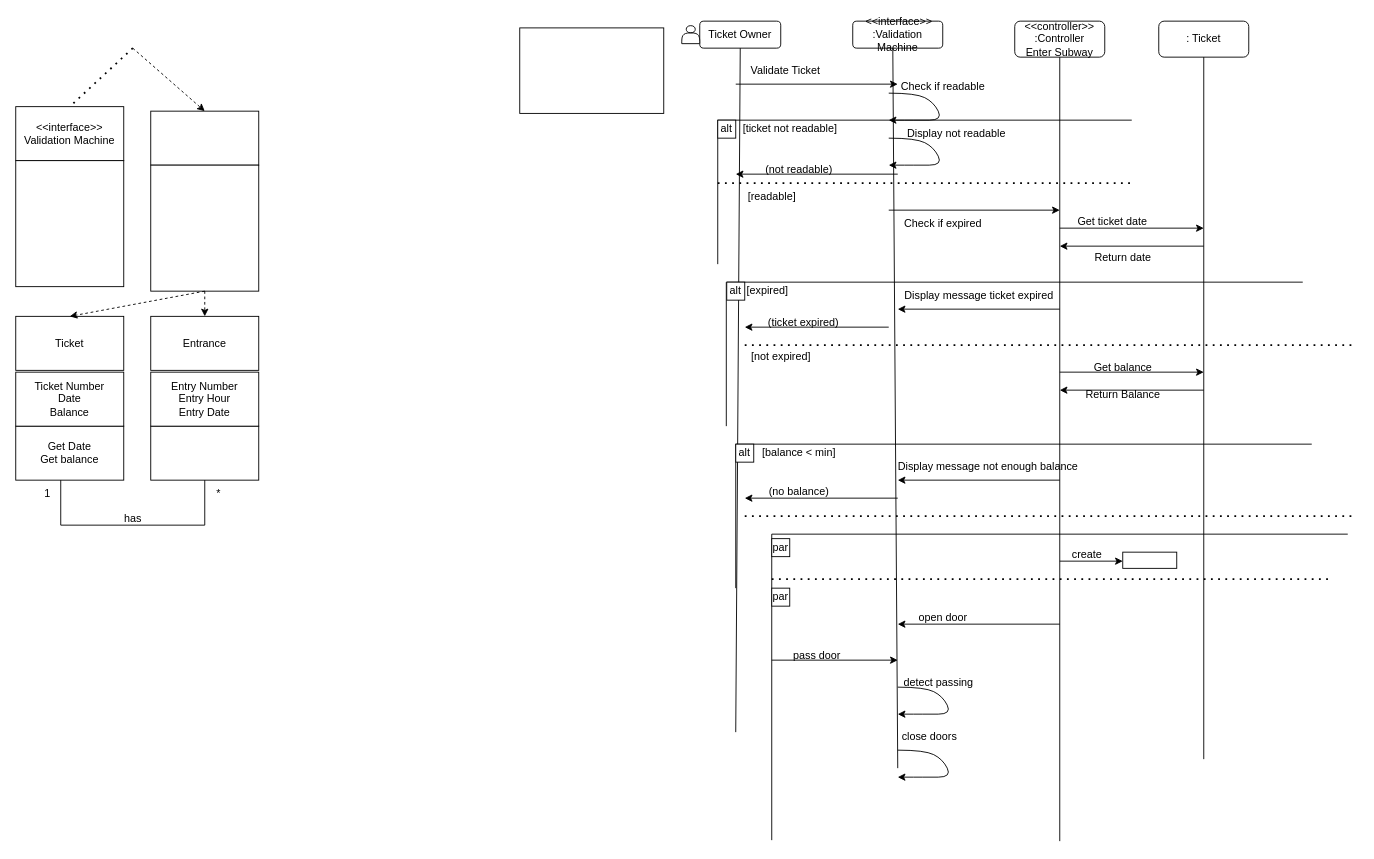
Image size: 1374x859. Some labels were removed from this diagram. The centre of each missing label's shape, as x and y in pixels:
:Entrance: point (1149, 559)
Check if Expired Check if Min Balance: point (204, 227)
Controller Enter Subway: point (204, 137)
Pre Condiçoes Subway open Owner must have ticket No sign machine is broken . . .: point (591, 70)
read(validate) Check If Readable Display Open Doors Detect passing Close dors: point (69, 223)
